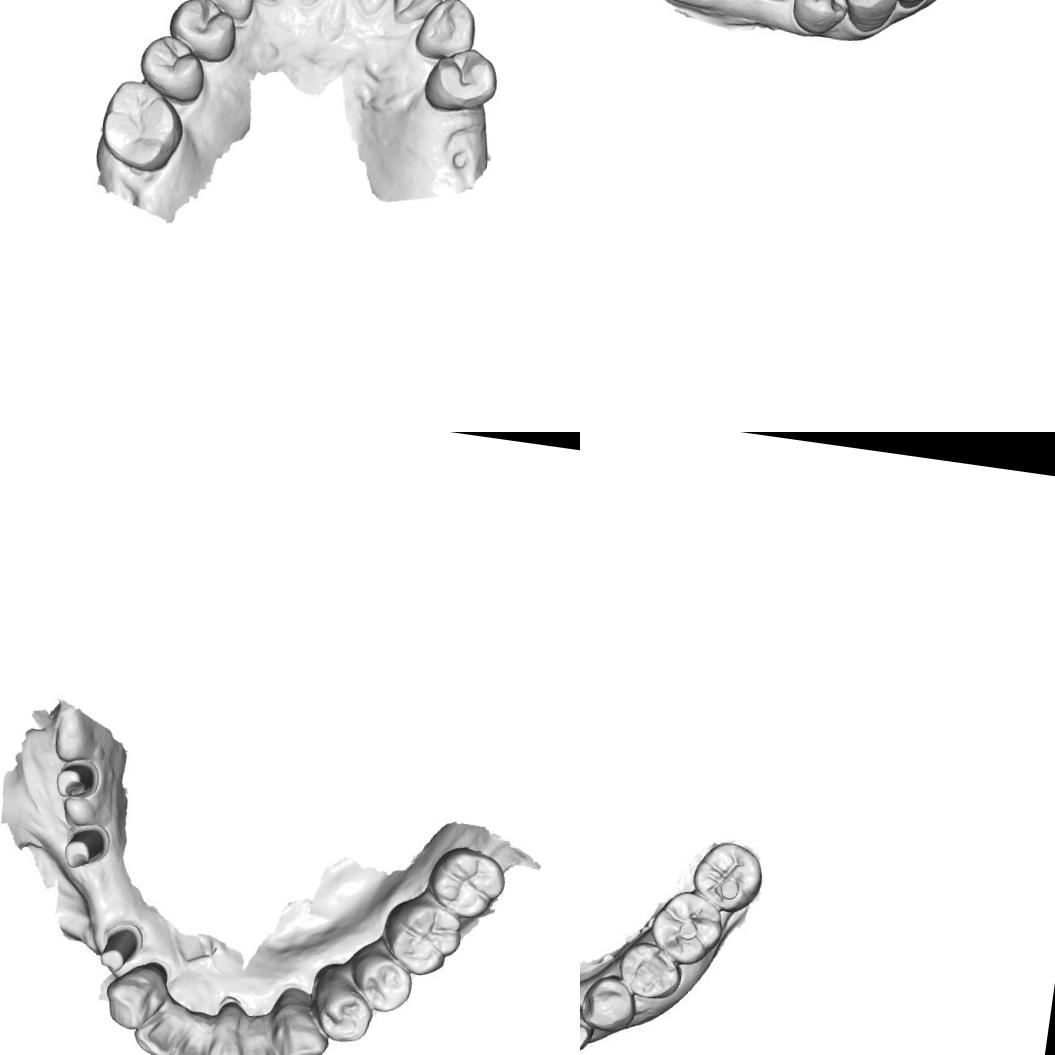abutment: (57, 820, 112, 876), (95, 920, 142, 977), (53, 758, 100, 804)
canine: (102, 960, 168, 1036), (412, 0, 482, 63), (269, 1007, 334, 1055), (838, 0, 902, 36), (196, 0, 261, 22), (580, 993, 598, 1055)
incisor: (129, 1002, 190, 1055), (197, 1013, 251, 1055), (163, 1014, 215, 1055), (231, 1026, 288, 1055), (387, 0, 450, 26), (878, 0, 943, 12)
molar: (97, 76, 190, 176), (377, 896, 466, 982), (420, 841, 510, 924), (646, 886, 729, 972), (687, 834, 769, 918)
premolar: (420, 41, 502, 119), (133, 26, 209, 104), (163, 0, 241, 64), (347, 948, 418, 1018), (308, 980, 378, 1050), (614, 939, 685, 1004), (580, 969, 640, 1035), (788, 0, 854, 40)
